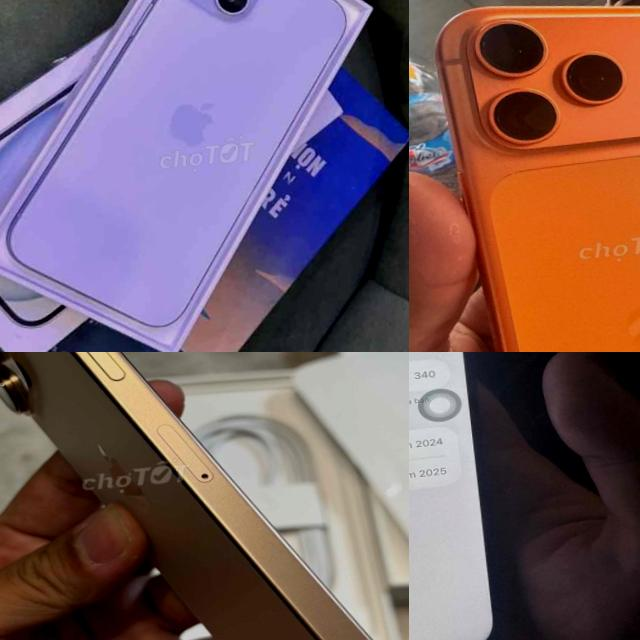gen_15: (0, 0, 378, 350), (409, 352, 512, 640)
gen_16: (0, 352, 372, 640)
gen_17: (414, 0, 640, 352)
